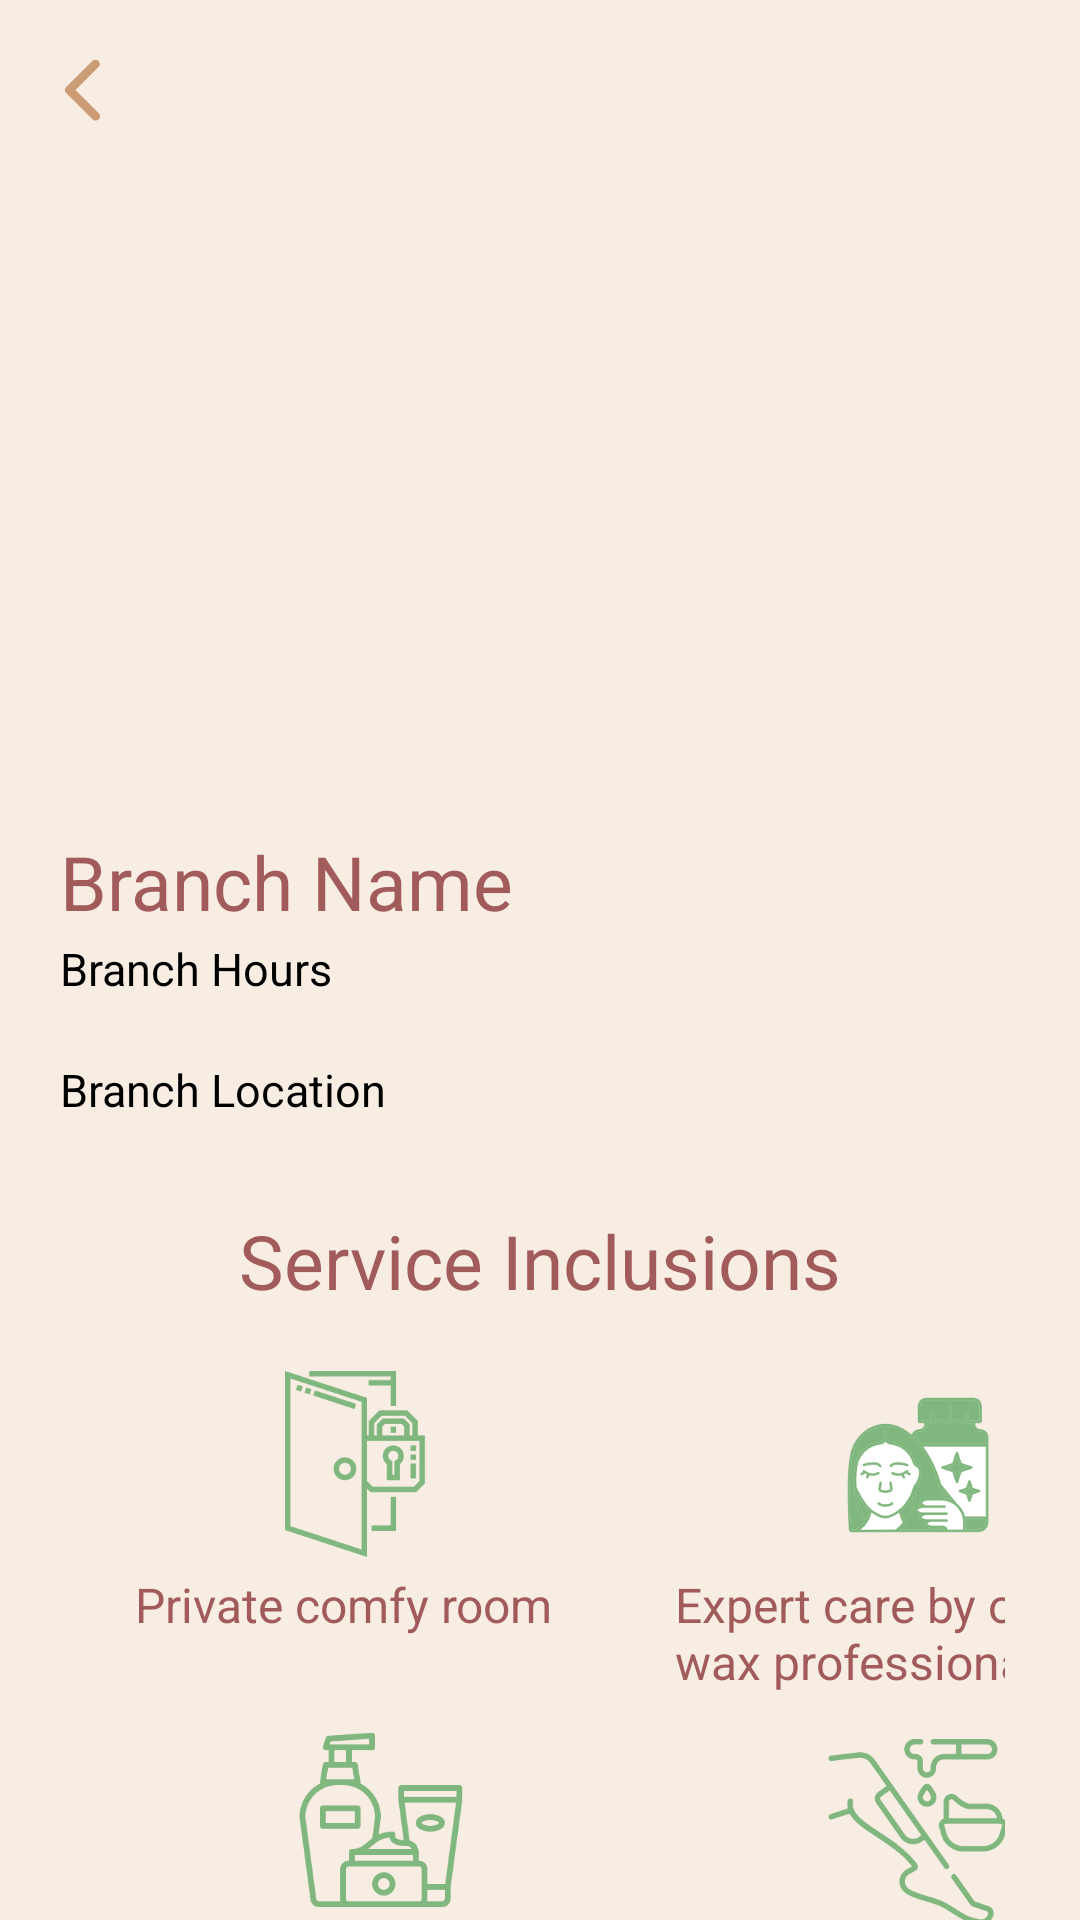

Icons on this 1080px×1920px Android screen, each with its box as (x1, y1, x2, y2):
back: (65, 60, 100, 121)
